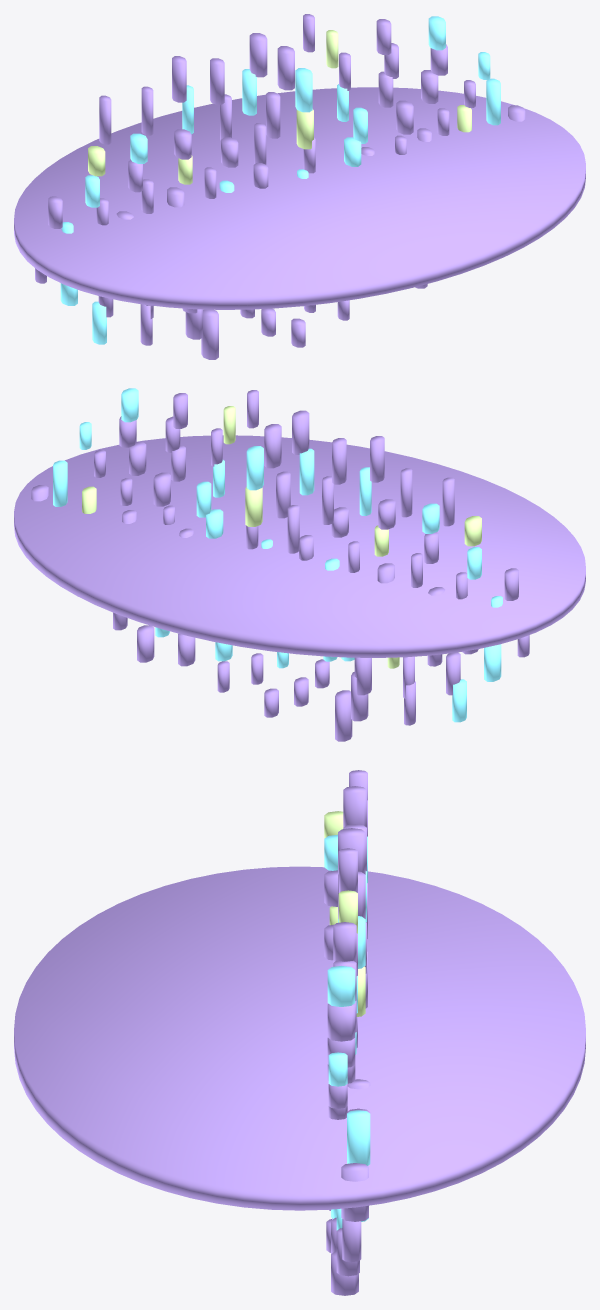
Rendered from coral-carpet-purple-01.glb.
3 views of the same model, one above another, from view 1: azimuth 30°, elevation 25°; view 2: azimuth 150°, elevation 25°; view 3: azimuth 270°, elevation 25° (orthographic). The views are drawn at different scales.
Parts seen in each view (by area): view 1: coral_carpet_purple_01_low_patch, coral_carpet_purple_01_polyp_83, coral_carpet_purple_01_polyp_74, coral_carpet_purple_01_polyp_32, coral_carpet_purple_01_polyp_53, coral_carpet_purple_01_polyp_76, coral_carpet_purple_01_polyp_61, coral_carpet_purple_01_polyp_19, coral_carpet_purple_01_polyp_82, coral_carpet_purple_01_polyp_11, coral_carpet_purple_01_polyp_40, coral_carpet_purple_01_polyp_90 (+23 smaller); view 2: coral_carpet_purple_01_low_patch, coral_carpet_purple_01_polyp_83, coral_carpet_purple_01_polyp_32, coral_carpet_purple_01_polyp_53, coral_carpet_purple_01_polyp_74, coral_carpet_purple_01_polyp_40, coral_carpet_purple_01_polyp_82, coral_carpet_purple_01_polyp_61, coral_carpet_purple_01_polyp_76, coral_carpet_purple_01_polyp_11, coral_carpet_purple_01_polyp_19, coral_carpet_purple_01_polyp_86 (+27 smaller); view 3: coral_carpet_purple_01_low_patch, coral_carpet_purple_01_polyp_76, coral_carpet_purple_01_polyp_92, coral_carpet_purple_01_polyp_71, coral_carpet_purple_01_polyp_79, coral_carpet_purple_01_polyp_82, coral_carpet_purple_01_polyp_89, coral_carpet_purple_01_polyp_87, coral_carpet_purple_01_polyp_81, coral_carpet_purple_01_polyp_74, coral_carpet_purple_01_polyp_86.
Boxes of the visible parts, x1,y1,x2,y2 form: coral_carpet_purple_01_low_patch: (14, 87, 585, 309); coral_carpet_purple_01_polyp_83: (201, 309, 218, 359); coral_carpet_purple_01_polyp_74: (249, 33, 267, 77); coral_carpet_purple_01_polyp_32: (295, 68, 312, 112); coral_carpet_purple_01_polyp_53: (277, 46, 294, 90); coral_carpet_purple_01_polyp_76: (486, 78, 500, 125); coral_carpet_purple_01_polyp_61: (210, 58, 224, 104); coral_carpet_purple_01_polyp_19: (266, 92, 280, 138); coral_carpet_purple_01_polyp_82: (172, 56, 186, 102); coral_carpet_purple_01_polyp_11: (296, 109, 313, 149); coral_carpet_purple_01_polyp_40: (242, 69, 256, 115); coral_carpet_purple_01_polyp_90: (99, 95, 111, 144); coral_carpet_purple_01_low_patch: (14, 435, 585, 657); coral_carpet_purple_01_polyp_83: (335, 690, 352, 741); coral_carpet_purple_01_polyp_32: (246, 446, 263, 490); coral_carpet_purple_01_polyp_53: (264, 424, 281, 468); coral_carpet_purple_01_polyp_74: (292, 410, 309, 454); coral_carpet_purple_01_polyp_40: (299, 448, 314, 495); coral_carpet_purple_01_polyp_82: (370, 436, 384, 482); coral_carpet_purple_01_polyp_61: (332, 438, 346, 484); coral_carpet_purple_01_polyp_76: (53, 460, 67, 506); coral_carpet_purple_01_polyp_11: (245, 486, 262, 526); coral_carpet_purple_01_polyp_19: (276, 471, 290, 518); coral_carpet_purple_01_polyp_86: (137, 625, 154, 662); coral_carpet_purple_01_low_patch: (14, 866, 585, 1210); coral_carpet_purple_01_polyp_76: (347, 1110, 370, 1165); coral_carpet_purple_01_polyp_92: (327, 966, 355, 1006); coral_carpet_purple_01_polyp_71: (327, 1004, 355, 1041); coral_carpet_purple_01_polyp_79: (333, 922, 356, 962); coral_carpet_purple_01_polyp_82: (343, 786, 366, 827); coral_carpet_purple_01_polyp_89: (341, 1163, 368, 1221); coral_carpet_purple_01_polyp_87: (338, 848, 357, 892); coral_carpet_purple_01_polyp_81: (342, 1219, 361, 1262); coral_carpet_purple_01_polyp_74: (338, 828, 365, 874); coral_carpet_purple_01_polyp_86: (331, 1251, 358, 1295).
Bounding box in the file's own units: 2.83 × 1.65 × 2.1.
